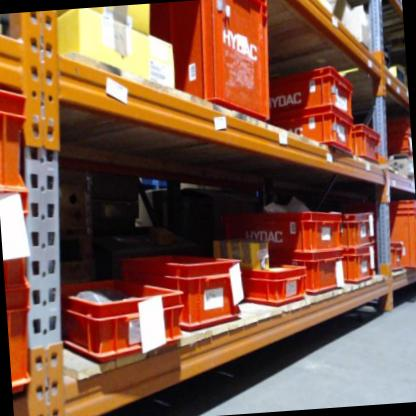small_load_carrier: (151, 0, 277, 138), (61, 276, 186, 365), (122, 252, 242, 336), (220, 208, 347, 263), (0, 79, 39, 214), (279, 111, 356, 175), (272, 66, 355, 125), (356, 197, 416, 276), (0, 184, 32, 302), (234, 262, 309, 309), (275, 254, 346, 298), (7, 294, 34, 396), (351, 120, 385, 170), (341, 243, 378, 288), (342, 210, 376, 254), (384, 241, 409, 278), (384, 134, 411, 154), (385, 119, 411, 135)
